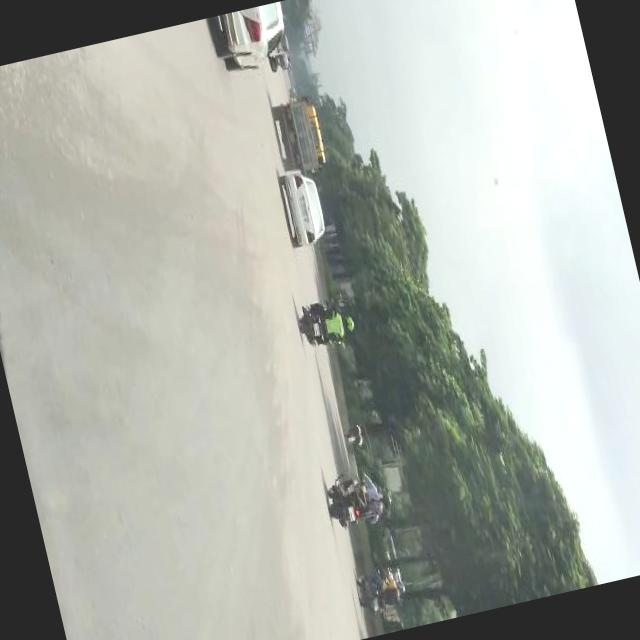car: (206, 0, 296, 84), (273, 161, 330, 252)
motorcycle: (320, 462, 398, 534), (290, 286, 360, 352), (352, 558, 411, 616), (270, 48, 292, 68), (276, 31, 290, 49)
truck: (266, 90, 331, 177)
